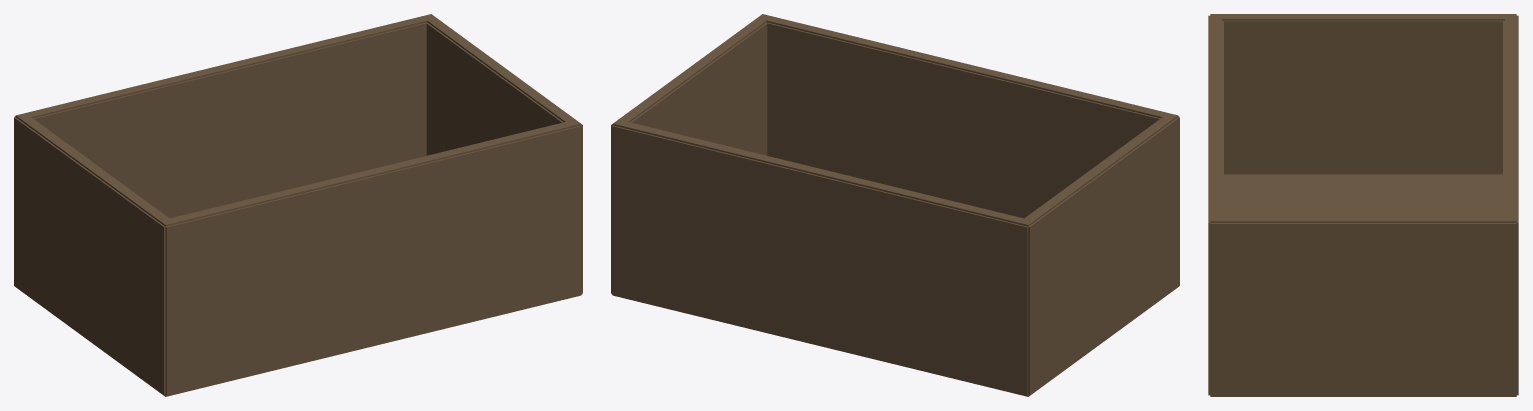
The model's file is SM_TicketCarton_fc58db6787.fbx.
3 views of the same model, side by side, from view 1: azimuth 30°, elevation 25°; view 2: azimuth 150°, elevation 25°; view 3: azimuth 270°, elevation 25° (orthographic). The views are drawn at different scales.
Parts seen in each view (by area): view 1: SM_TicketCarton_fc58db6787; view 2: SM_TicketCarton_fc58db6787; view 3: SM_TicketCarton_fc58db6787.
Part boxes in pixels (left/top/right/bottom): SM_TicketCarton_fc58db6787: left=14, top=14, right=582, bottom=396; SM_TicketCarton_fc58db6787: left=611, top=14, right=1179, bottom=396; SM_TicketCarton_fc58db6787: left=1208, top=14, right=1518, bottom=396.
Size of what is drawn, in the model's own units: 51 by 32 by 20.
